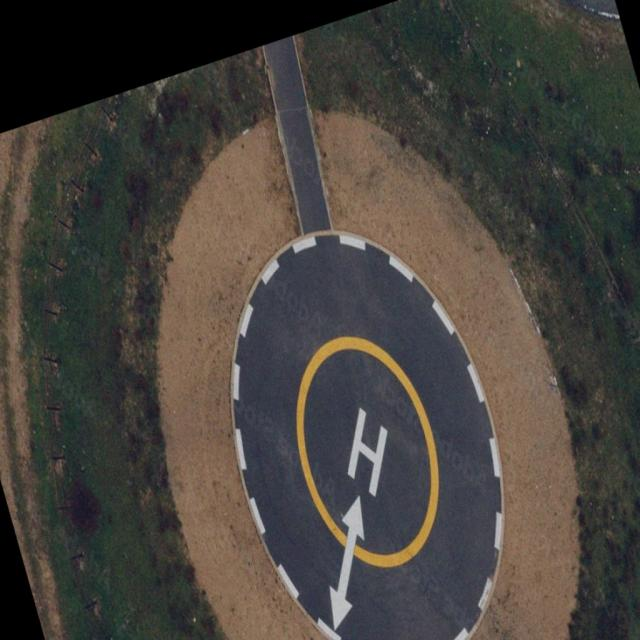helipad: (291, 331, 443, 568)
